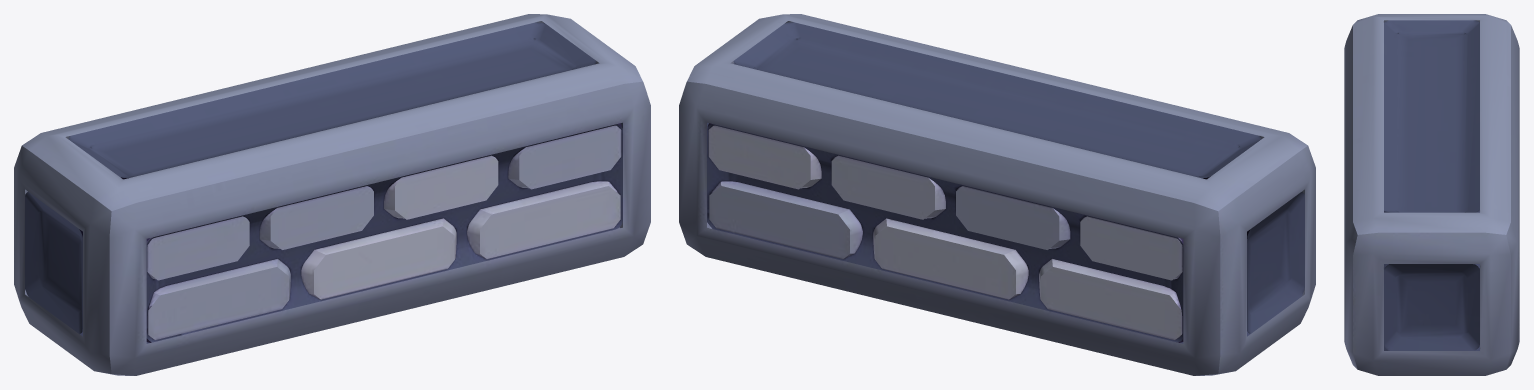
Rendered from tas3.glb.
The picture shows the model from 3 angles, left to right: view 1: azimuth 30°, elevation 25°; view 2: azimuth 150°, elevation 25°; view 3: azimuth 270°, elevation 25°; orthographic projection. The views are drawn at different scales.
Parts seen in each view (by area): view 1: tas3; view 2: tas3; view 3: tas3.
Boxes of the visible parts, x1,y1,x2,y2 form: tas3: [14, 14, 650, 375]; tas3: [679, 14, 1315, 375]; tas3: [1344, 14, 1519, 375].
Bounding box in the file's own units: 4.6 × 1.51 × 1.51.
Materials: 1 (1 with a texture image).
